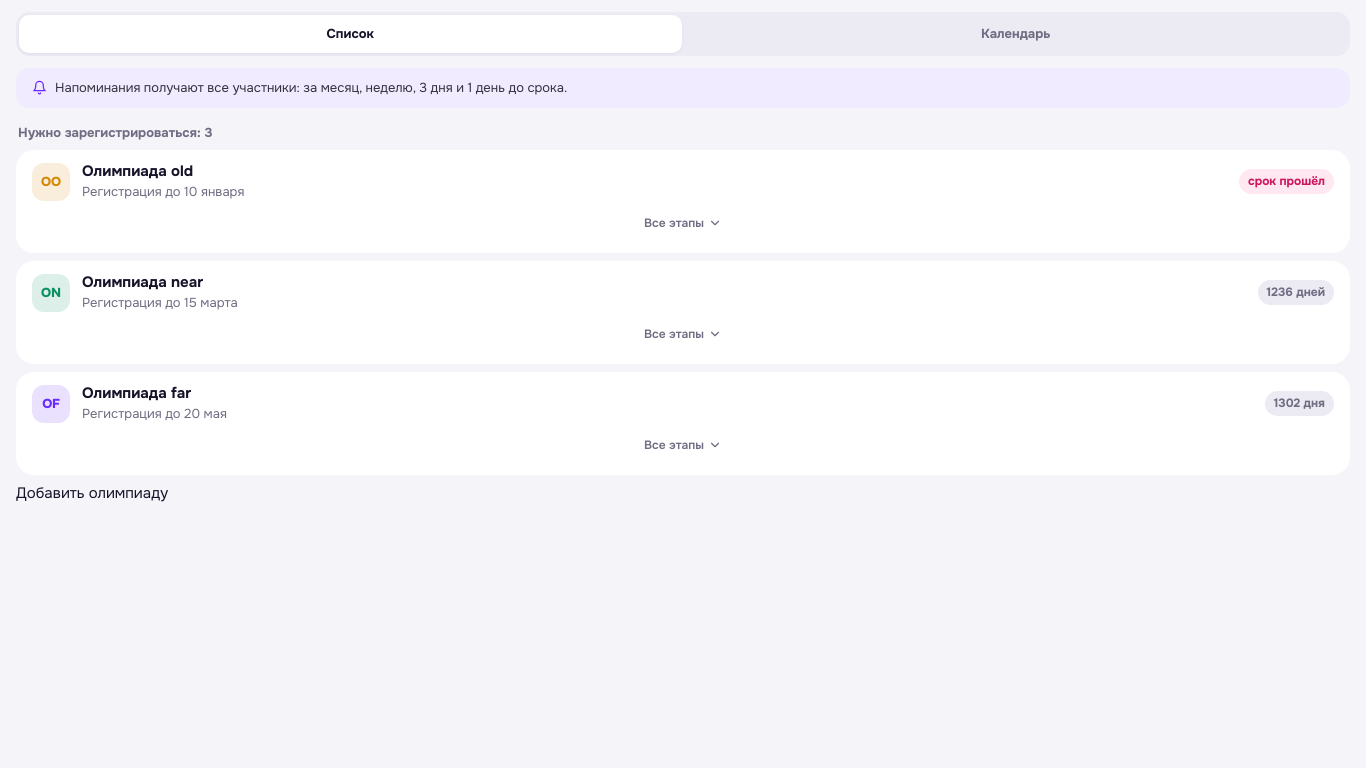
Scenario: календарь открывается на месяце ближайшего срока
Click the tab "Календарь".
click(1016, 34)  # box [684,15,1347,53]
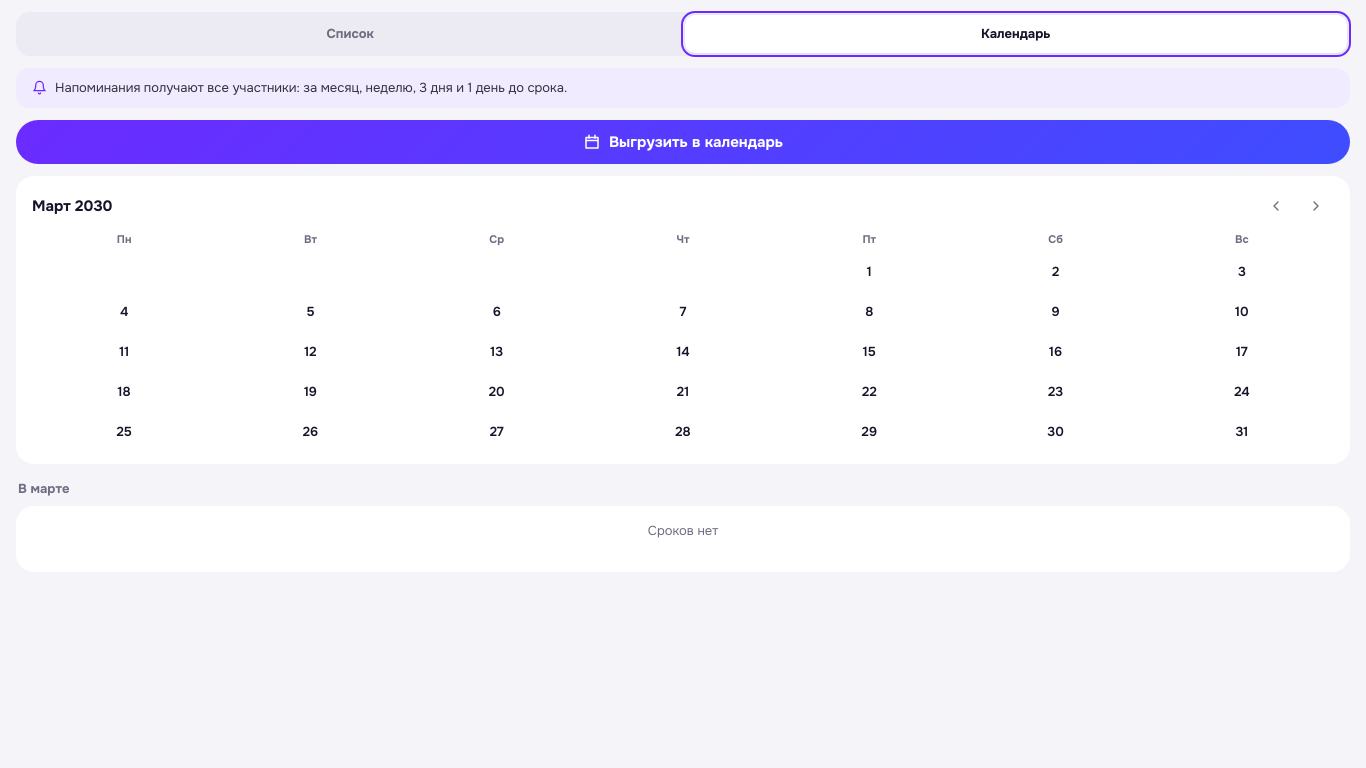
Expected: the text "Март 2030" is shown, [32,196,112,217]
